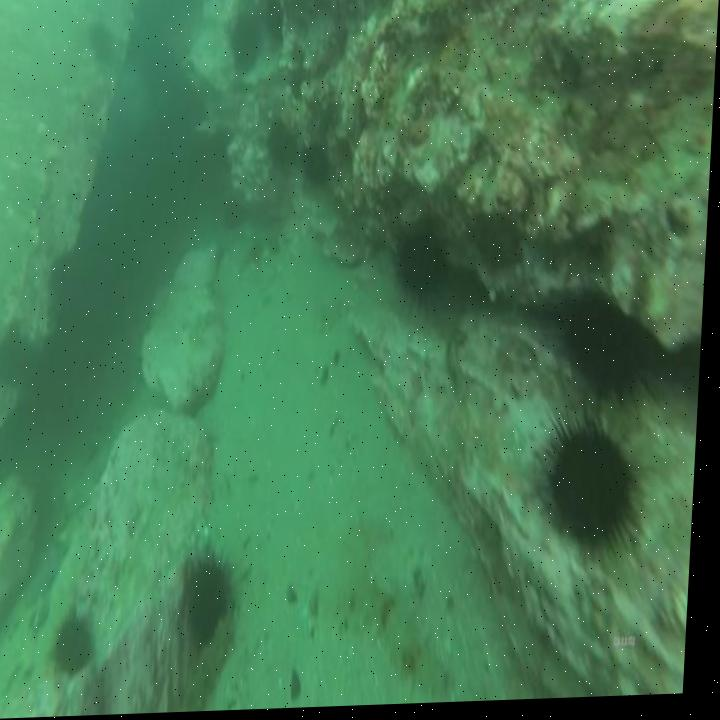echinus: (556, 411, 646, 582), (566, 298, 646, 406), (389, 212, 459, 324), (181, 549, 238, 653), (56, 597, 107, 686), (226, 10, 267, 81), (305, 138, 337, 195), (270, 112, 300, 171)
